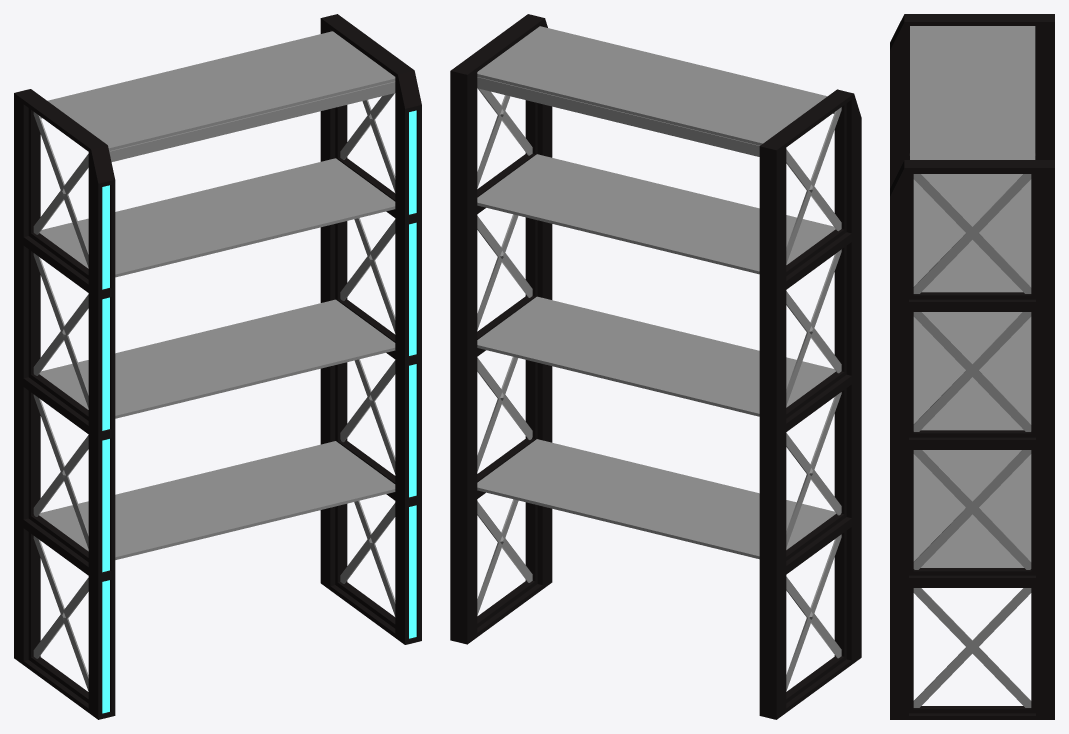
Rendered from Shelf.FBX.
The picture shows the model from 3 angles, left to right: view 1: azimuth 30°, elevation 25°; view 2: azimuth 150°, elevation 25°; view 3: azimuth 270°, elevation 25°; orthographic projection. The views are drawn at different scales.
Parts seen in each view (by area): view 1: Box001; view 2: Box001; view 3: Box001.
Part boxes in pixels (bbox=[...]): Box001: bbox=[14, 14, 421, 719]; Box001: bbox=[450, 14, 861, 719]; Box001: bbox=[890, 14, 1054, 719].
Bounding box in the file's own units: 108 × 180 × 48.69.
